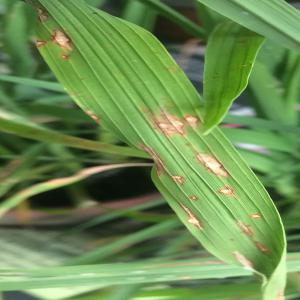Rice_Blast: (186, 144, 232, 182), (24, 1, 68, 34), (173, 194, 201, 235), (139, 143, 166, 181), (47, 27, 83, 55), (26, 34, 62, 62), (251, 236, 277, 263), (83, 105, 111, 128), (182, 191, 213, 210), (149, 110, 171, 136), (170, 108, 189, 138), (216, 184, 241, 204), (236, 213, 252, 241), (185, 111, 203, 132), (249, 208, 261, 218)
